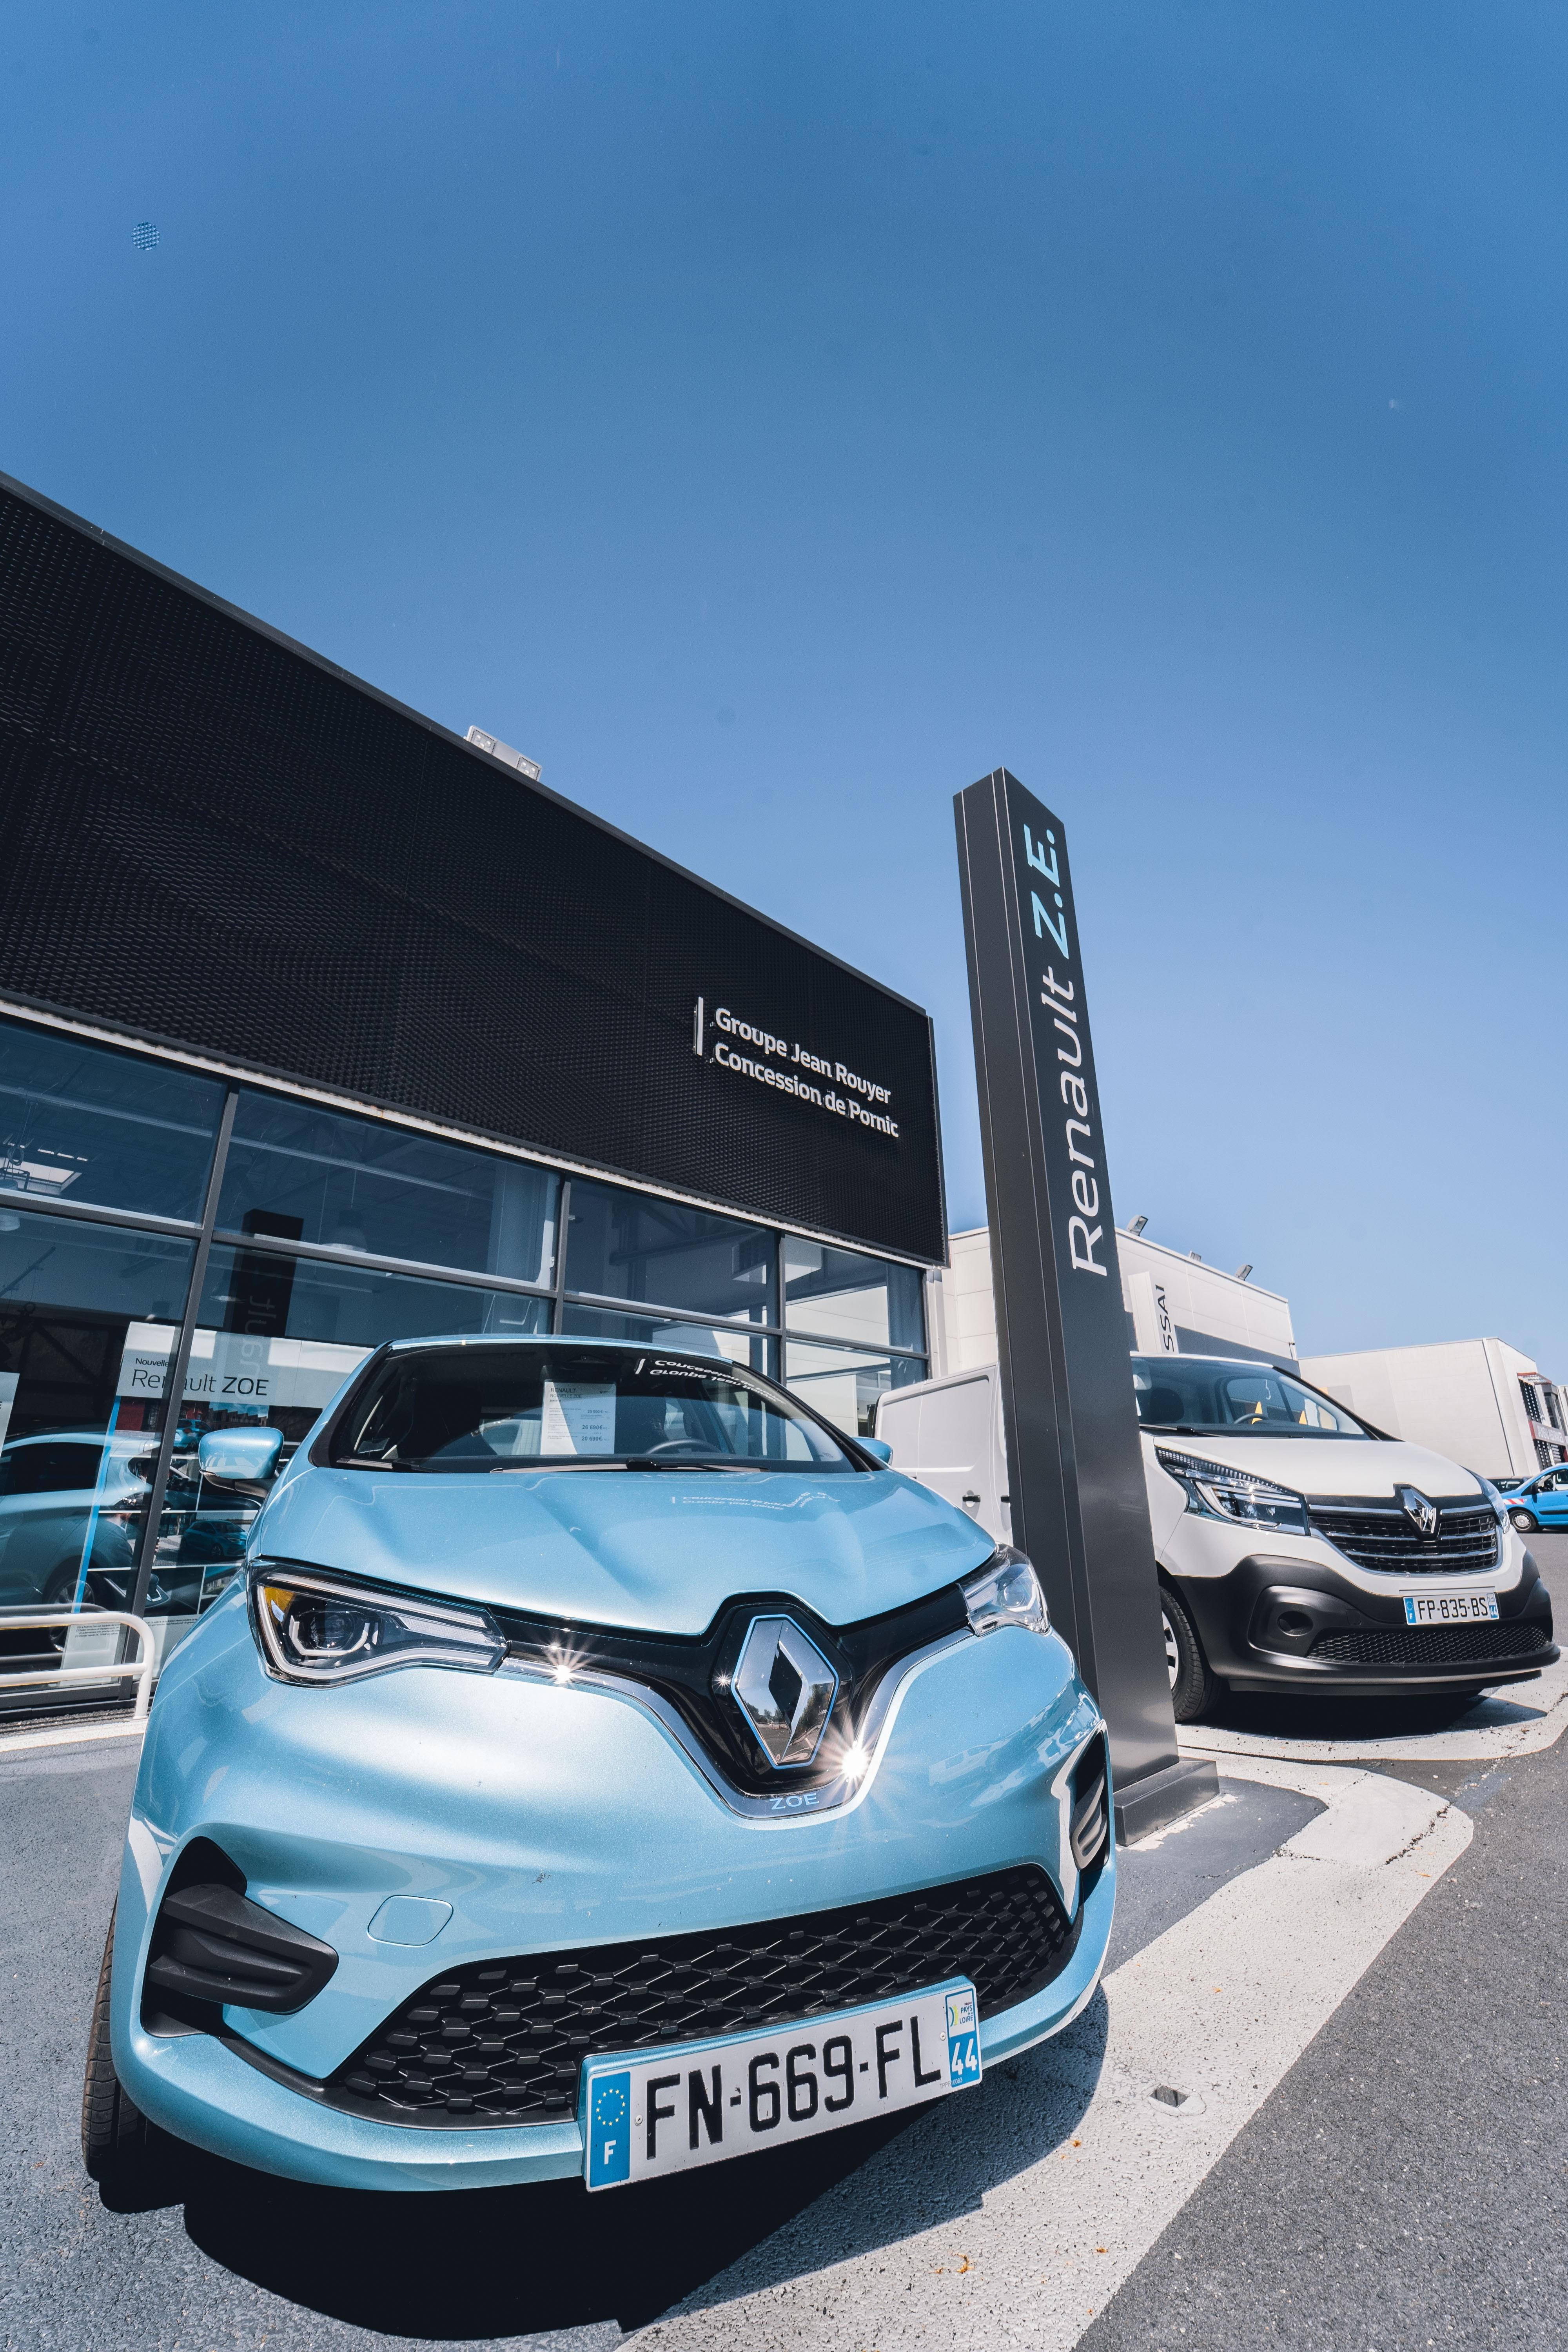Renault: (702, 1589, 873, 1822), (1393, 1473, 1447, 1552)
